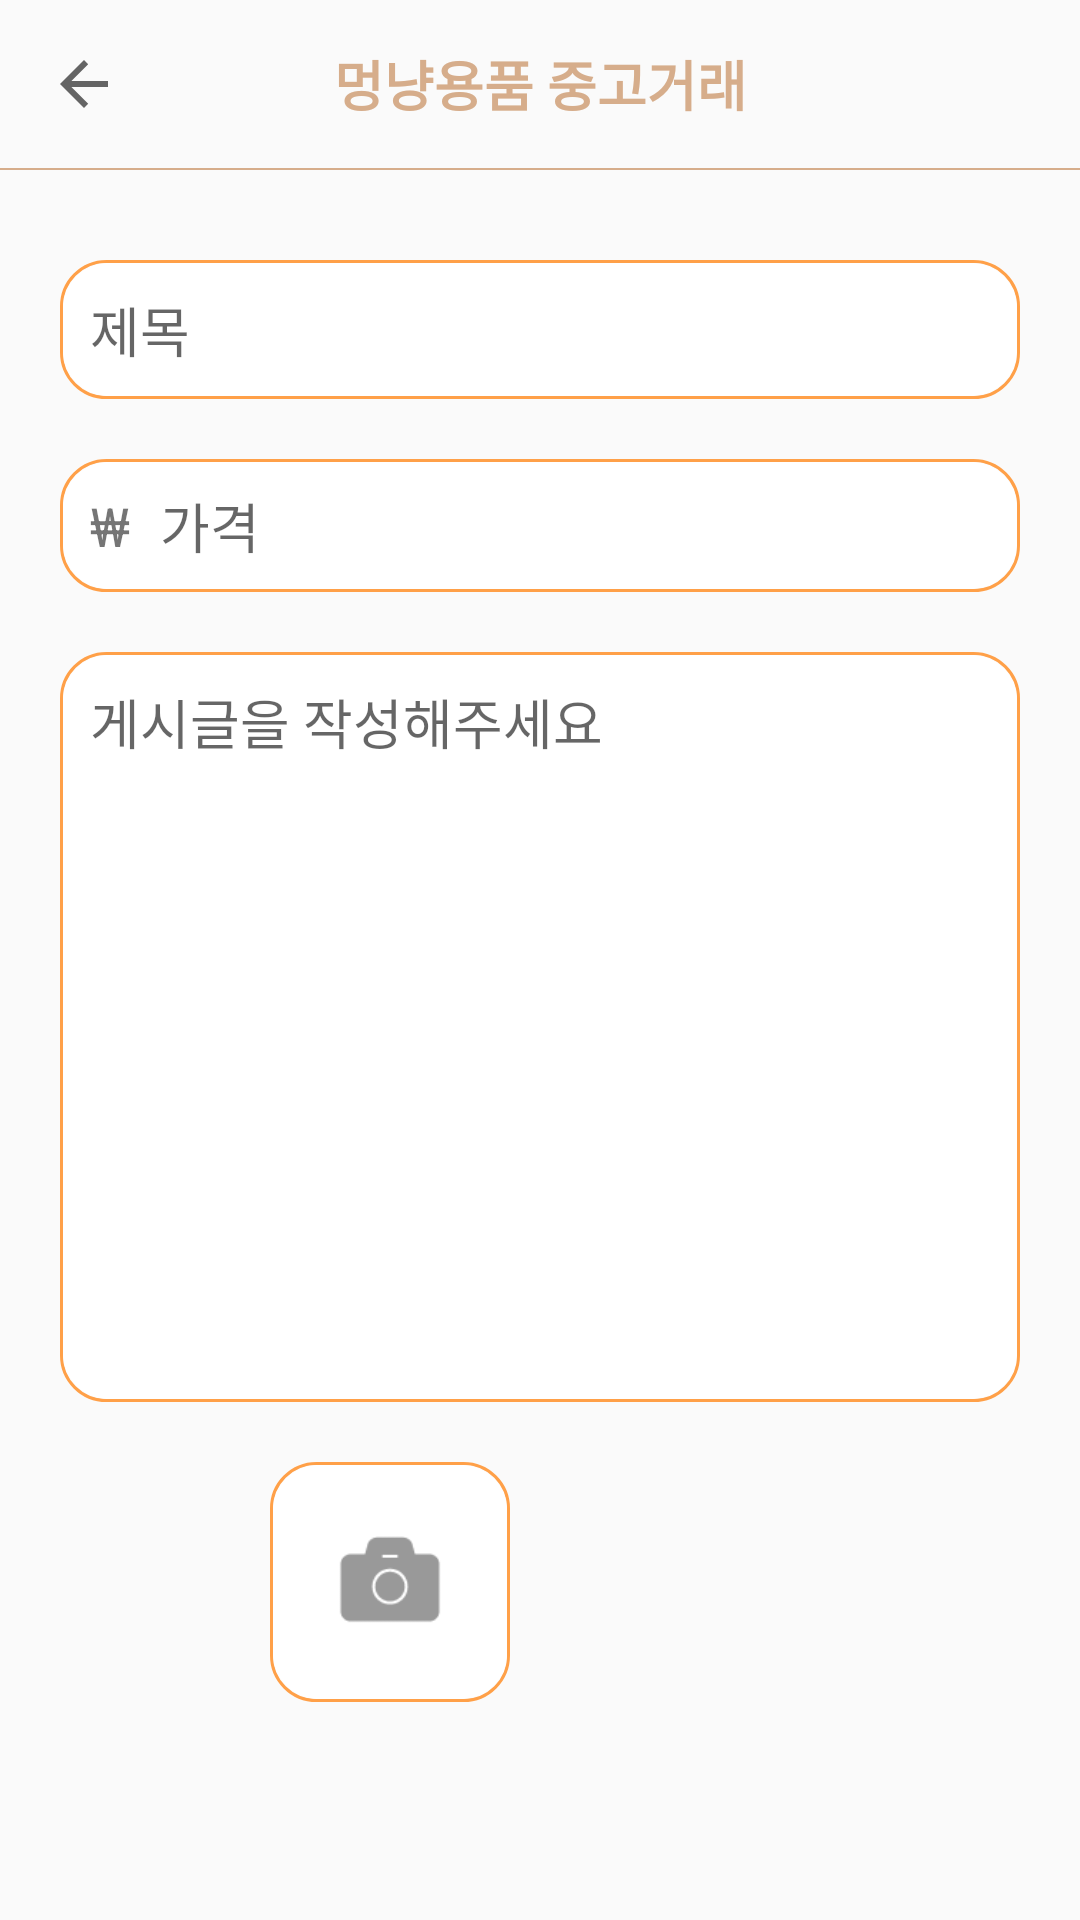

Screen size 1080 x 1920. Icon name, then its center in pixels as (x=x, y=y):
camera: (x=390, y=1579)
